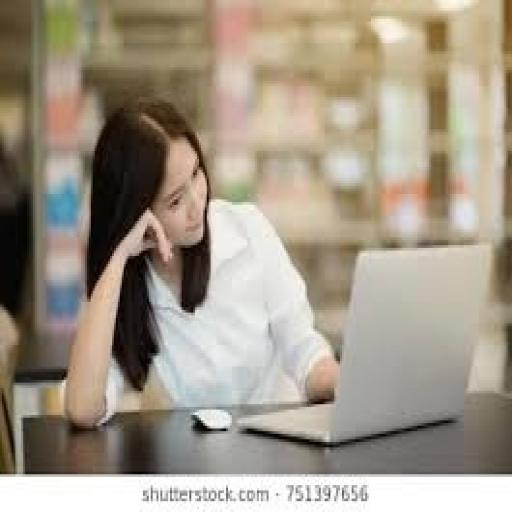using_laptop: (236, 240, 492, 447)
